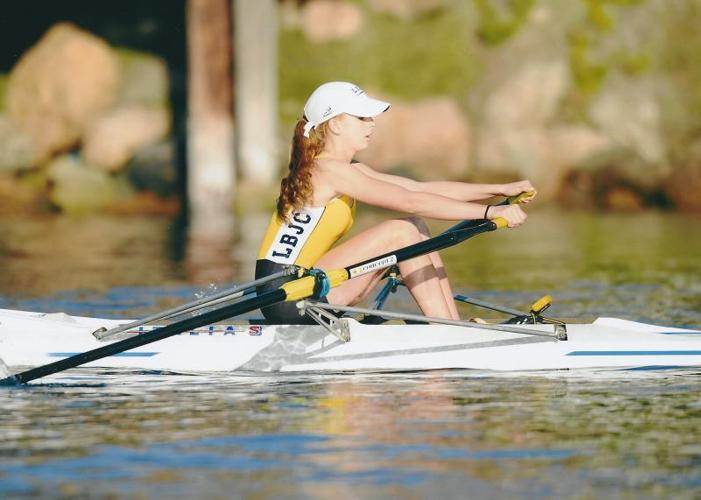person: (253, 79, 540, 323)
